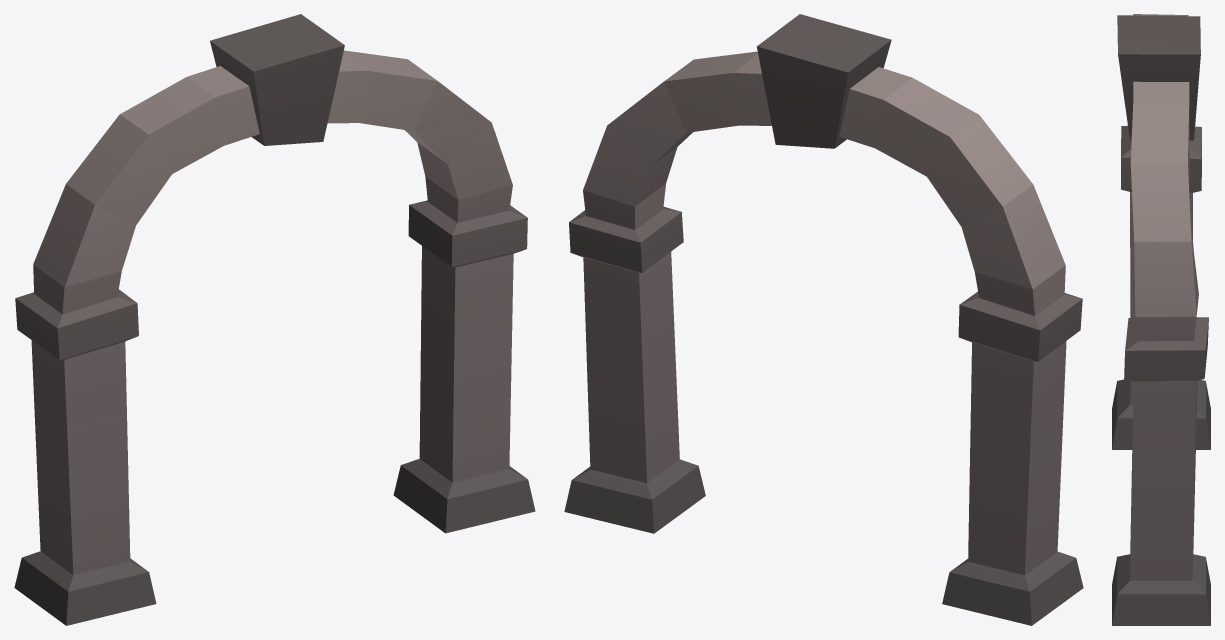
Rendered from FRM0510032.fbx.
The picture shows the model from 3 angles, left to right: view 1: azimuth 30°, elevation 25°; view 2: azimuth 150°, elevation 25°; view 3: azimuth 270°, elevation 25°; orthographic projection. The views are drawn at different scales.
Visible parts, largest first — view 1: smFRM0510032; view 2: smFRM0510032; view 3: smFRM0510032.
Part boxes in pixels (left/top/right/bottom): smFRM0510032: left=14, top=14, right=535, bottom=625; smFRM0510032: left=564, top=14, right=1083, bottom=625; smFRM0510032: left=1112, top=14, right=1210, bottom=625.
Bounding box in the file's own units: 381 × 392 × 72.51.
Materials: 1 (1 with a texture image).
